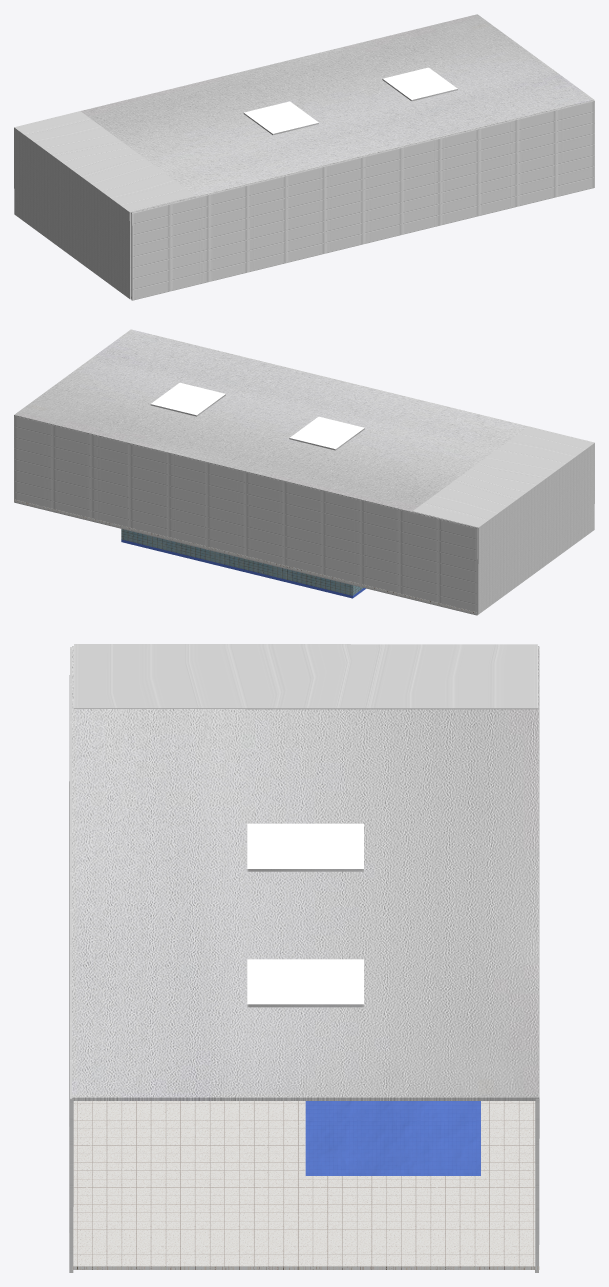
Rendered from liminal_pool_room.glb.
3 views of the same model, one above another, from view 1: azimuth 30°, elevation 25°; view 2: azimuth 150°, elevation 25°; view 3: azimuth 270°, elevation 25° (orthographic). The views are drawn at different scales.
Visible parts, largest first — view 1: Plane.003_4, Plane.001_2, Plane.004_5; view 2: Plane.003_4, Plane.002_3, Plane.004_5, Plane_1; view 3: Plane.003_4, Plane_1, Plane.004_5, Plane.005_6, Plane.001_2, Plane.002_3.
Boxes of the visible parts, left/top/right/bottom form: Plane.003_4: left=80, top=14, right=593, bottom=213; Plane.001_2: left=131, top=100, right=594, bottom=300; Plane.004_5: left=14, top=111, right=195, bottom=299; Plane.003_4: left=14, top=329, right=587, bottom=528; Plane.002_3: left=14, top=415, right=477, bottom=615; Plane.004_5: left=412, top=426, right=594, bottom=614; Plane_1: left=14, top=499, right=477, bottom=613; Plane.003_4: left=72, top=646, right=539, bottom=1100; Plane_1: left=72, top=1101, right=539, bottom=1269; Plane.004_5: left=73, top=644, right=537, bottom=709; Plane.005_6: left=305, top=1101, right=480, bottom=1175; Plane.001_2: left=69, top=647, right=73, bottom=1272; Plane.002_3: left=535, top=647, right=539, bottom=1272.
Bounding box in the file's own units: 33.05 × 7.93 × 14.5.
Materials: 8 (6 with a texture image).
